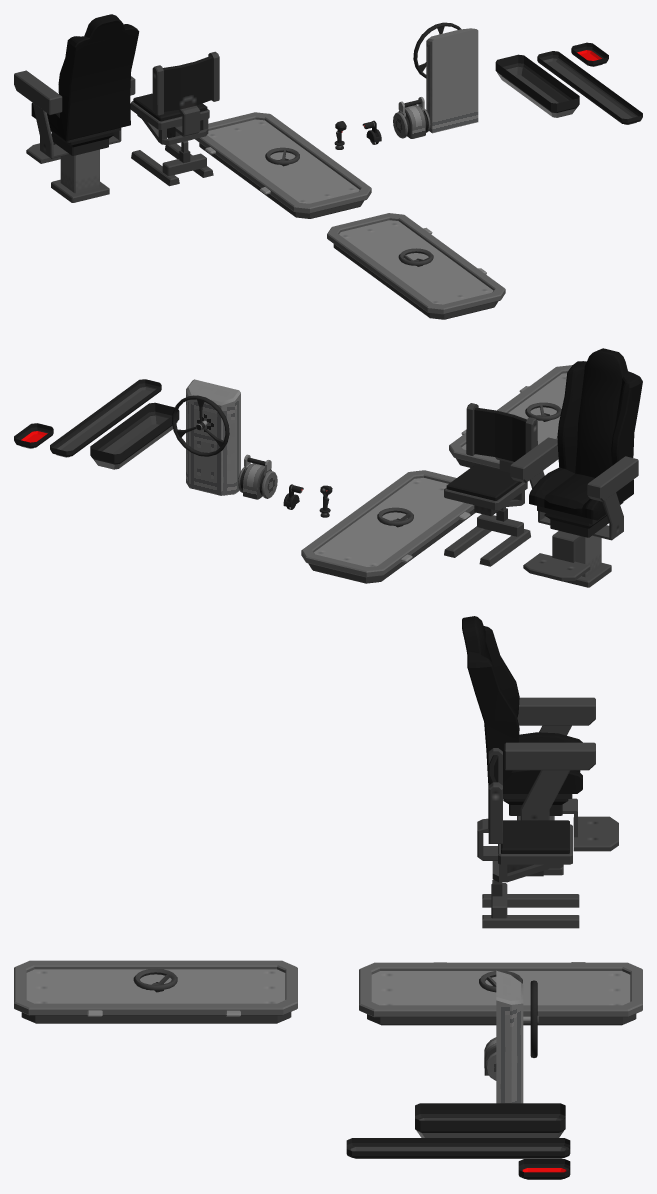
The model's file is bridge_attachments.fbx.
3 views of the same model, one above another, from view 1: azimuth 30°, elevation 25°; view 2: azimuth 150°, elevation 25°; view 3: azimuth 270°, elevation 25° (orthographic). The views are drawn at different scales.
Visible parts, largest first — view 1: captains_seat_main, door_panel_left, door_panel, captains_seat, helm, bridge_light, bridge_light_small, throttle_lever, light_red, throttle_lever_base, helm_steering_wheel; view 2: captains_seat_main, door_panel, captains_seat, helm, door_panel_left, bridge_light, bridge_light_small, helm_steering_wheel, throttle_lever, light_red, throttle_lever_base, bridge_light_additive; view 3: door_panel_left, door_panel, captains_seat_main, captains_seat, bridge_light, bridge_light_small, helm, light_red.
Part boxes in pixels (x1,y1,x2,y2): captains_seat_main: (14, 14, 139, 202); door_panel_left: (327, 213, 505, 319); door_panel: (195, 112, 371, 218); captains_seat: (130, 51, 219, 186); helm: (426, 28, 478, 133); bridge_light: (495, 54, 579, 112); bridge_light_small: (537, 51, 642, 124); throttle_lever: (393, 97, 430, 138); light_red: (571, 42, 608, 66); throttle_lever_base: (398, 105, 425, 138); helm_steering_wheel: (413, 22, 461, 78); captains_seat_main: (510, 348, 642, 587); door_panel: (301, 470, 475, 583); captains_seat: (444, 403, 537, 566); helm: (186, 379, 240, 495); door_panel_left: (449, 365, 572, 469); bridge_light: (90, 402, 179, 464); bridge_light_small: (50, 379, 161, 456); helm_steering_wheel: (171, 395, 229, 456); throttle_lever: (238, 454, 277, 498); light_red: (14, 423, 53, 448); throttle_lever_base: (243, 463, 271, 499); bridge_light_additive: (93, 421, 177, 469); door_panel_left: (14, 960, 297, 1023); door_panel: (359, 962, 642, 1025); captains_seat_main: (462, 616, 618, 875); captains_seat: (477, 748, 579, 928); bridge_light: (415, 1103, 565, 1132); bridge_light_small: (346, 1138, 570, 1157); helm: (496, 970, 523, 1103); light_red: (518, 1159, 570, 1178).
Size of the model in its own units: 613 by 222 by 467.
Materials: 10 (9 with a texture image).
